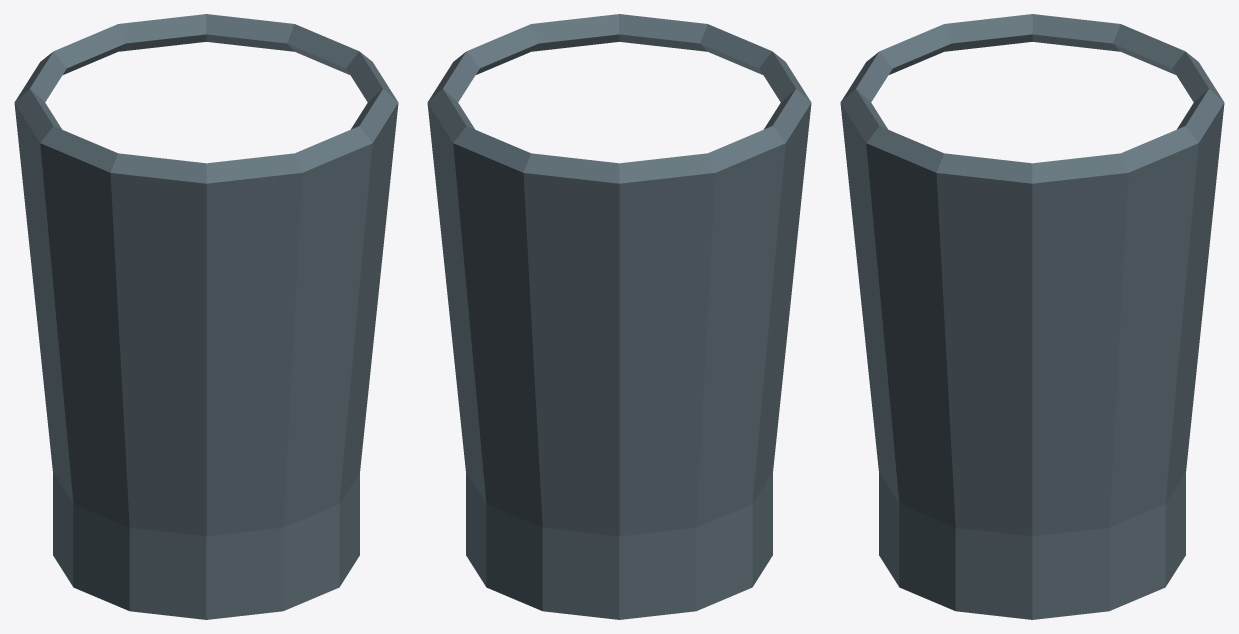
Rendered from pahar_vodka.glb.
3 renders of one model, left to right at view 1: azimuth 30°, elevation 25°; view 2: azimuth 150°, elevation 25°; view 3: azimuth 270°, elevation 25°, orthographic.
Visible parts, largest first — view 1: Geam; view 2: Geam; view 3: Geam.
Part boxes in pixels (left/top/right/bottom): Geam: left=14, top=14, right=398, bottom=619; Geam: left=427, top=14, right=811, bottom=619; Geam: left=840, top=14, right=1224, bottom=619.
Bounding box in the file's own units: 0.05 × 0.067 × 0.05.
